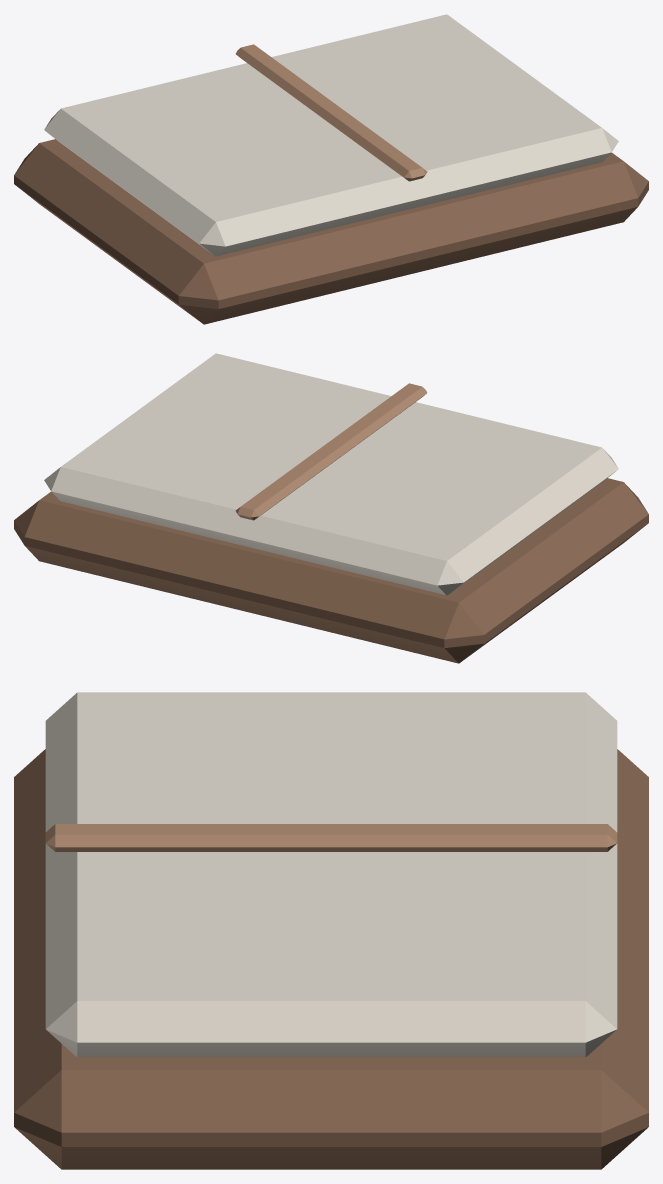
The model's file is prop-moka-ledger.glb.
3 views of the same model, one above another, from view 1: azimuth 30°, elevation 25°; view 2: azimuth 150°, elevation 25°; view 3: azimuth 270°, elevation 25° (orthographic). The views are drawn at different scales.
Visible parts, largest first — view 1: prop-moka-ledger; view 2: prop-moka-ledger; view 3: prop-moka-ledger.
Boxes of the visible parts, left/top/right/bottom form: prop-moka-ledger: left=14, top=14, right=648, bottom=324; prop-moka-ledger: left=14, top=353, right=648, bottom=663; prop-moka-ledger: left=14, top=692, right=648, bottom=1169.
Size of the model in its own units: 0.28 by 0.06 by 0.2.
